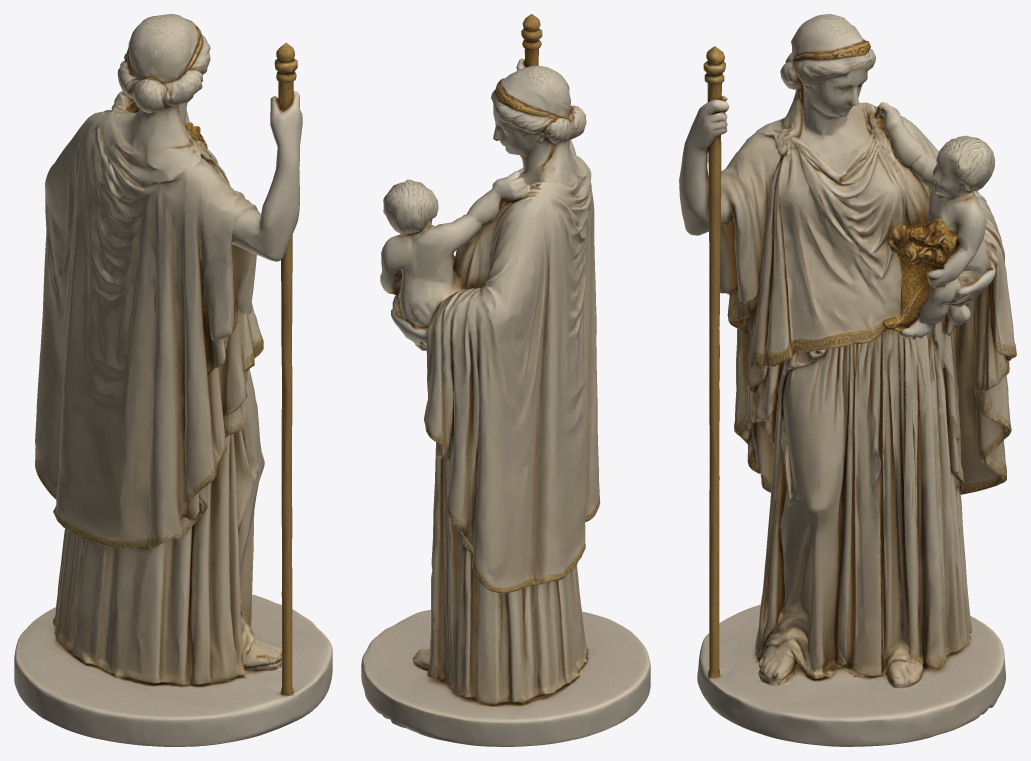
Rendered from hyp-3.glb.
3 renders of one model, left to right at view 1: azimuth 30°, elevation 25°; view 2: azimuth 150°, elevation 25°; view 3: azimuth 270°, elevation 25°, orthographic. The views are drawn at different scales.
Parts seen in each view (by area): view 1: tripo_node_8652726c-bed5-4b53-afa5-215a842170d9; view 2: tripo_node_8652726c-bed5-4b53-afa5-215a842170d9; view 3: tripo_node_8652726c-bed5-4b53-afa5-215a842170d9.
Part boxes in pixels (bbox=[...]): tripo_node_8652726c-bed5-4b53-afa5-215a842170d9: bbox=[14, 14, 332, 746]; tripo_node_8652726c-bed5-4b53-afa5-215a842170d9: bbox=[361, 14, 650, 746]; tripo_node_8652726c-bed5-4b53-afa5-215a842170d9: bbox=[679, 14, 1016, 746].
Bounding box in the file's own units: 0.4249 × 1 × 0.4662.
1 material, 1 textured.
